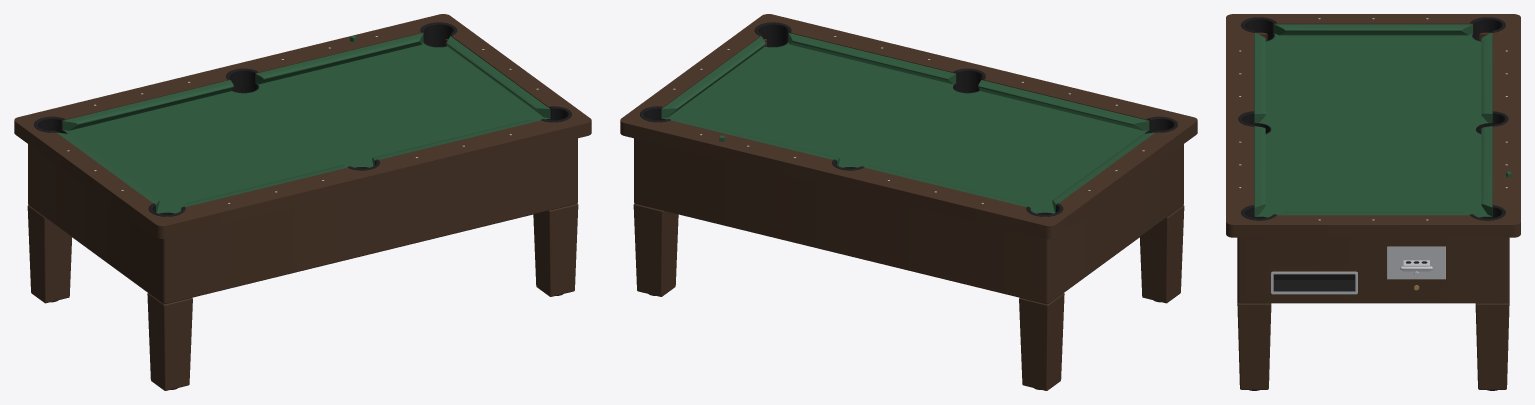
Rendered from pool_table.glb.
3 views of the same model, side by side, from view 1: azimuth 30°, elevation 25°; view 2: azimuth 150°, elevation 25°; view 3: azimuth 270°, elevation 25° (orthographic).
Visible parts, largest first — view 1: pool_table; view 2: pool_table; view 3: pool_table.
Boxes of the visible parts, x1,y1,x2,y2 form: pool_table: (14,14,591,390); pool_table: (620,14,1197,390); pool_table: (1226,14,1520,390).
Size of the model in its own units: 2.22 by 0.87 by 1.3.
